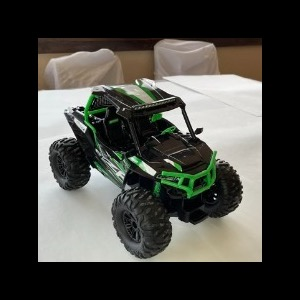polaris: (49, 78, 244, 261)
